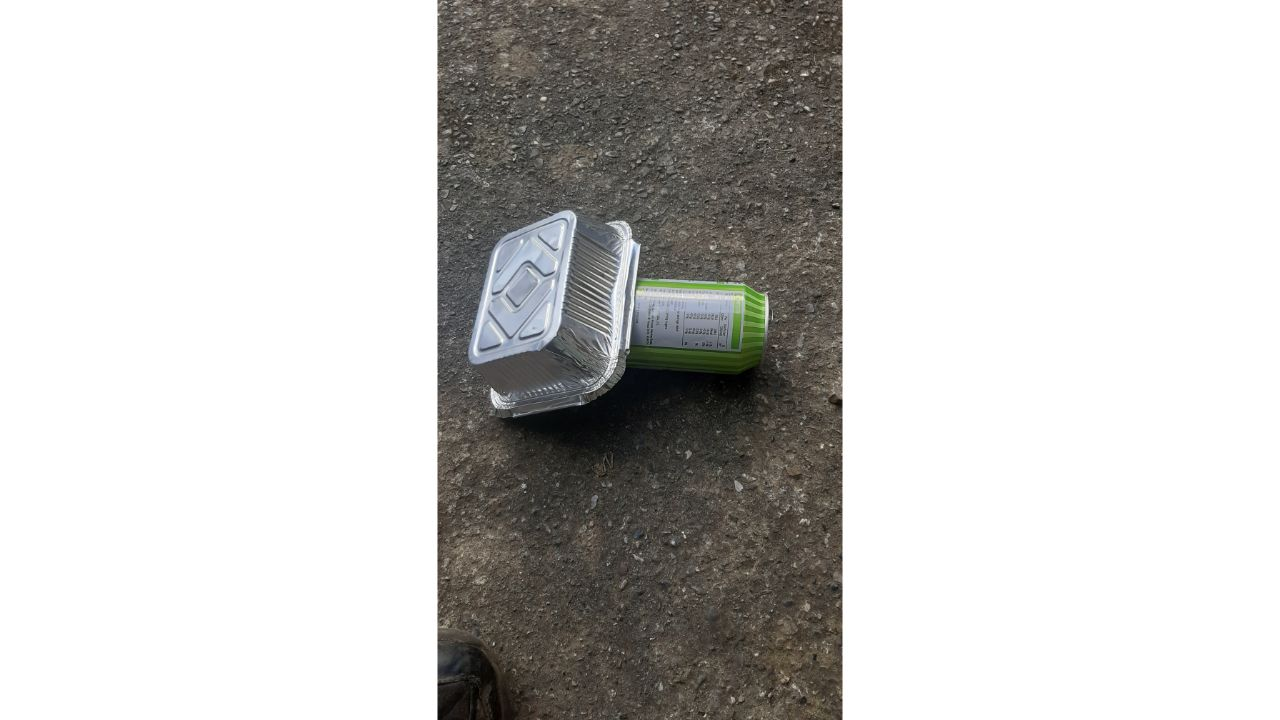Can: (625, 271, 780, 373)
